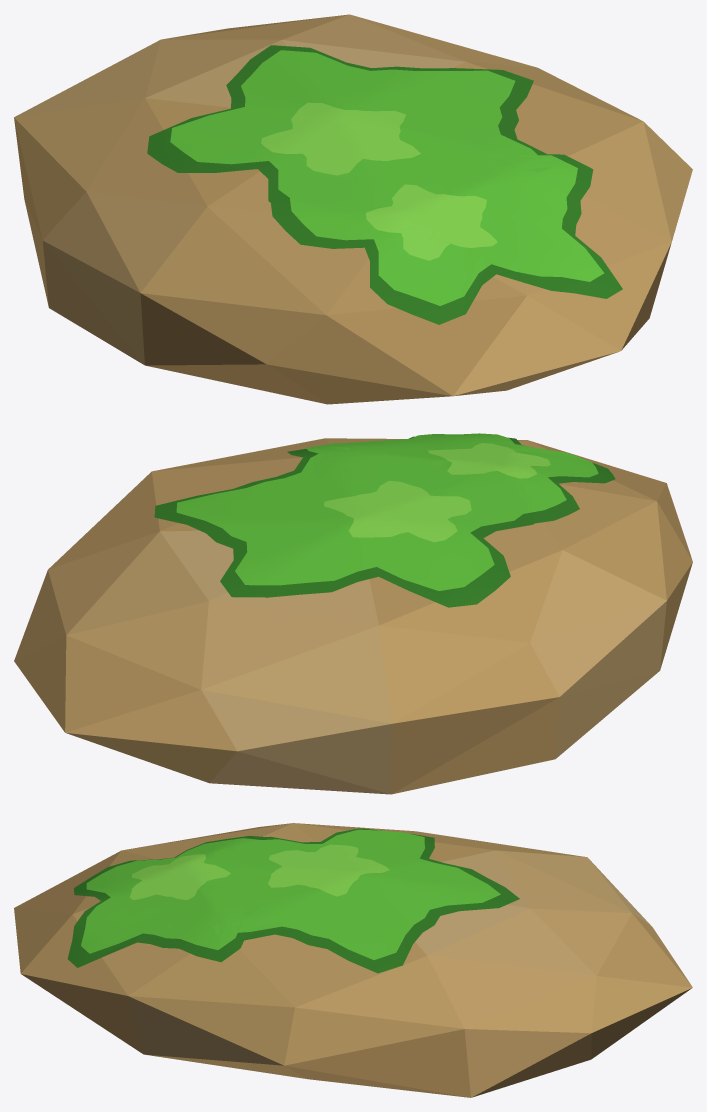
Rendered from rock_1_clover.glb.
3 views of the same model, one above another, from view 1: azimuth 30°, elevation 25°; view 2: azimuth 150°, elevation 25°; view 3: azimuth 270°, elevation 25° (orthographic). The views are drawn at different scales.
Parts seen in each view (by area): view 1: rock_1_clover; view 2: rock_1_clover; view 3: rock_1_clover.
Boxes of the visible parts, left/top/right/bottom form: rock_1_clover: left=14, top=14, right=692, bottom=404; rock_1_clover: left=14, top=433, right=692, bottom=794; rock_1_clover: left=14, top=823, right=692, bottom=1097.
Size of the model in its own units: 1.97 by 0.6281 by 2.6.
